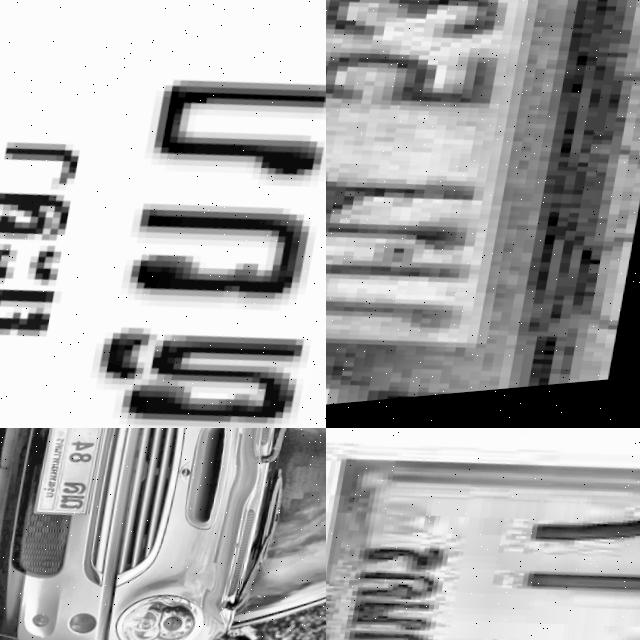license-plate: (0, 0, 326, 428), (326, 0, 621, 428), (326, 428, 640, 640), (35, 428, 109, 524)
